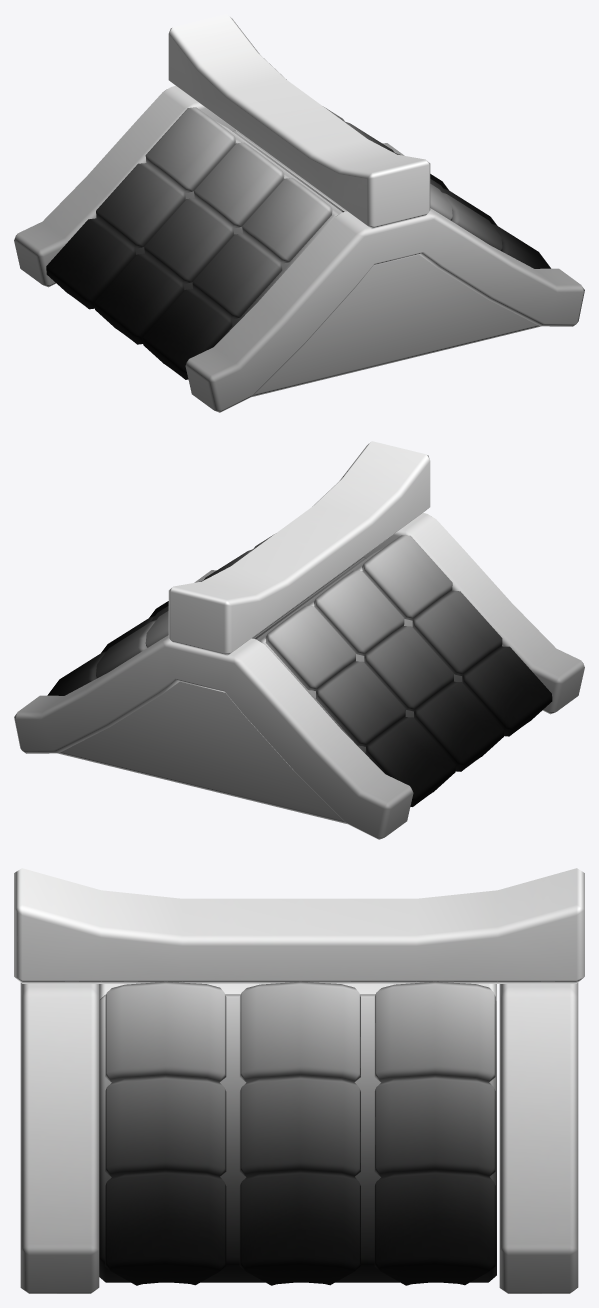
The model's file is SM_Stone_Roof_01.fbx.
3 renders of one model, top to bottom at view 1: azimuth 30°, elevation 25°; view 2: azimuth 150°, elevation 25°; view 3: azimuth 270°, elevation 25°, orthographic. The views are drawn at different scales.
Visible parts, largest first — view 1: SM_Stone_Roof_01; view 2: SM_Stone_Roof_01; view 3: SM_Stone_Roof_01.
Part boxes in pixels (x1,y1,x2,y2): SM_Stone_Roof_01: [14, 14, 584, 412]; SM_Stone_Roof_01: [14, 441, 584, 839]; SM_Stone_Roof_01: [14, 868, 584, 1293].
Size of the model in its own units: 1.11 by 0.5728 by 1.02.
